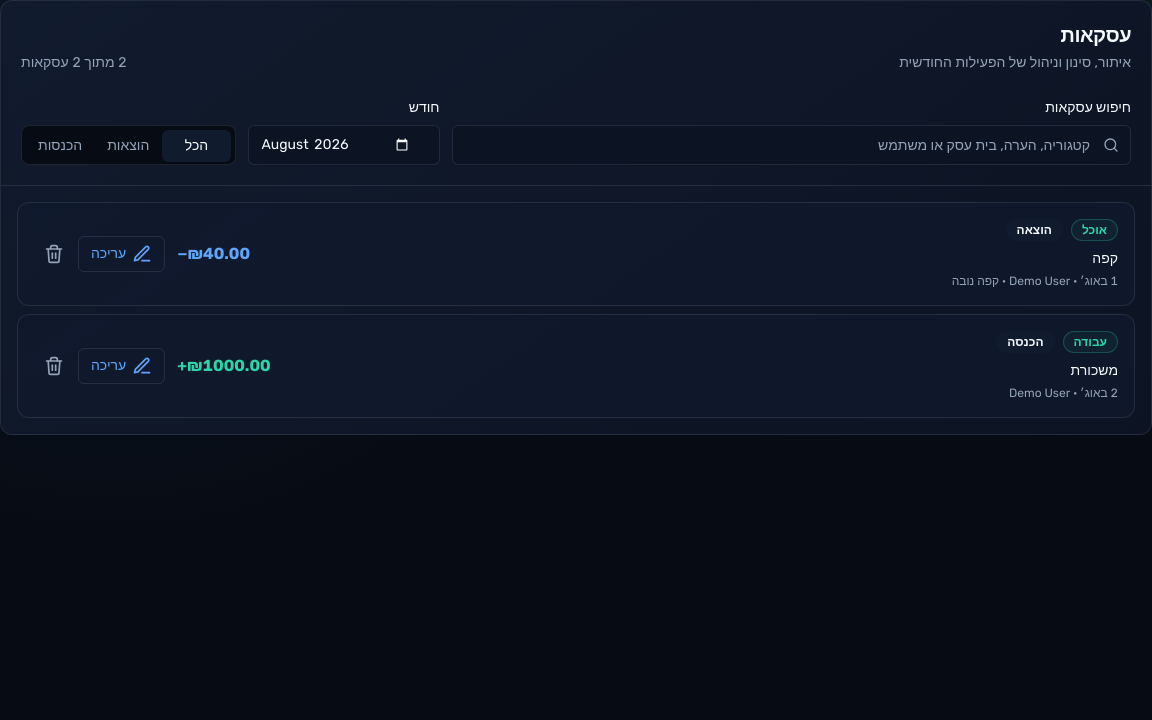
opens transaction editing in an accessible dialog
Click the button "עריכה" next to "40.00": (122, 254) [78,236,165,272]
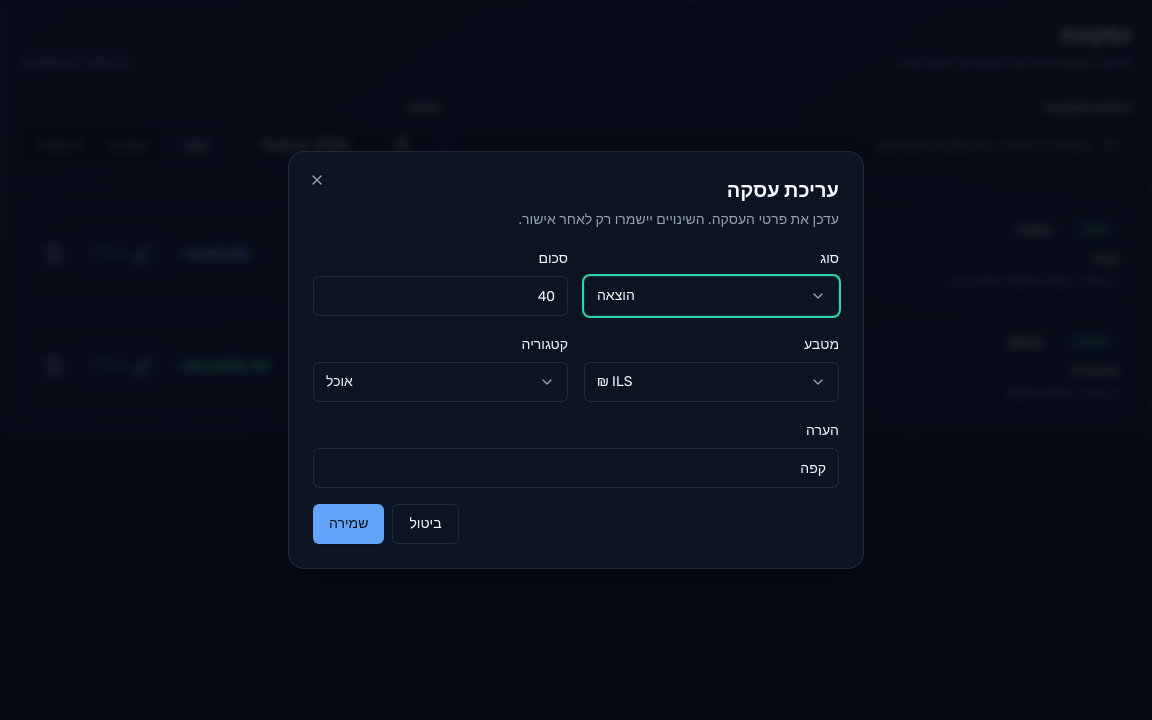
Check: the dialog "עריכת עסקה" is shown, box [288,151,864,569]
Check: the number field labelled "סכום" holds "40", box [313,276,568,316]
